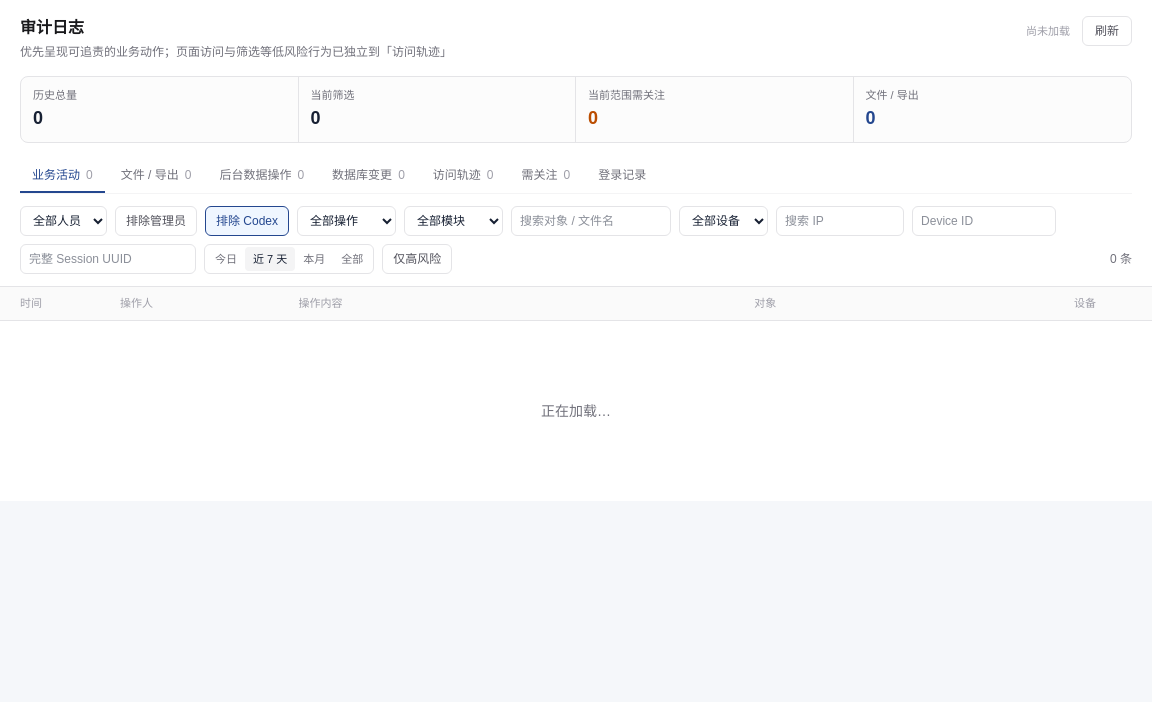
Test: legacy Codex imports show executor, business action and raw evidence
The width and height of the screenshot is (1152, 702).
Click the button "排除 Codex" at (247, 220), box [205, 206, 289, 236]
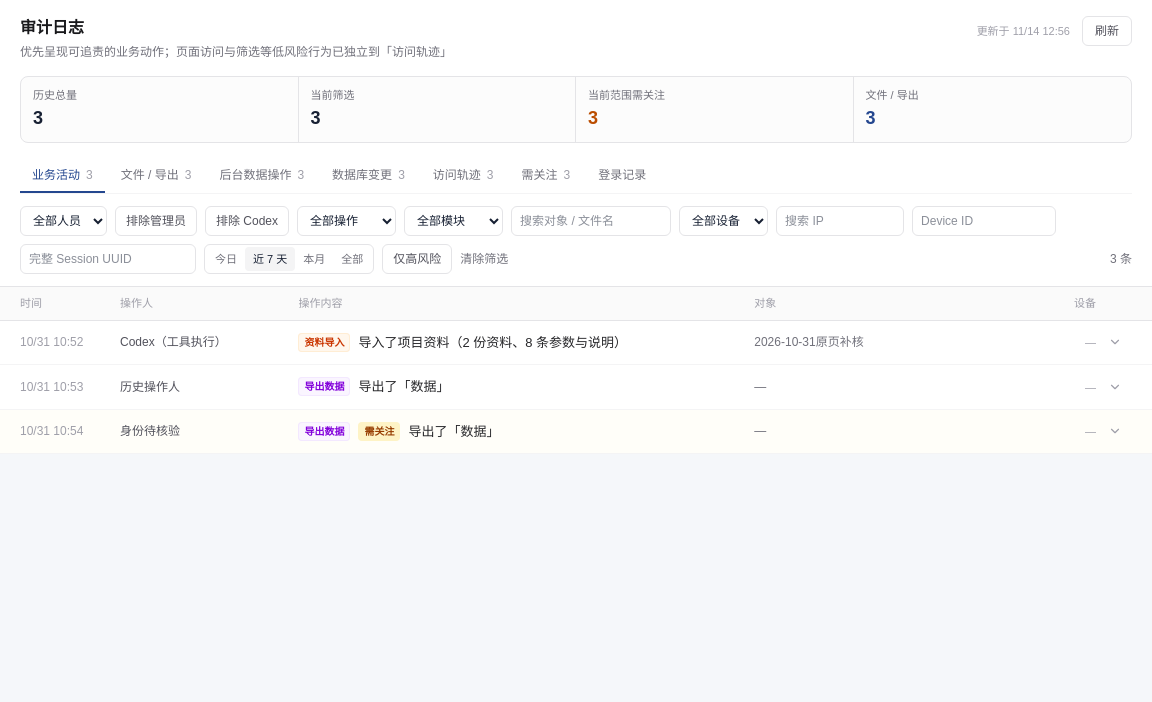
expect the text "导入了项目资料（2 份资料、8 条参数与说明）" is shown: met, box [358, 332, 627, 352]
Click the button "Codex（工具执行）" at (576, 342), box [0, 320, 1151, 364]
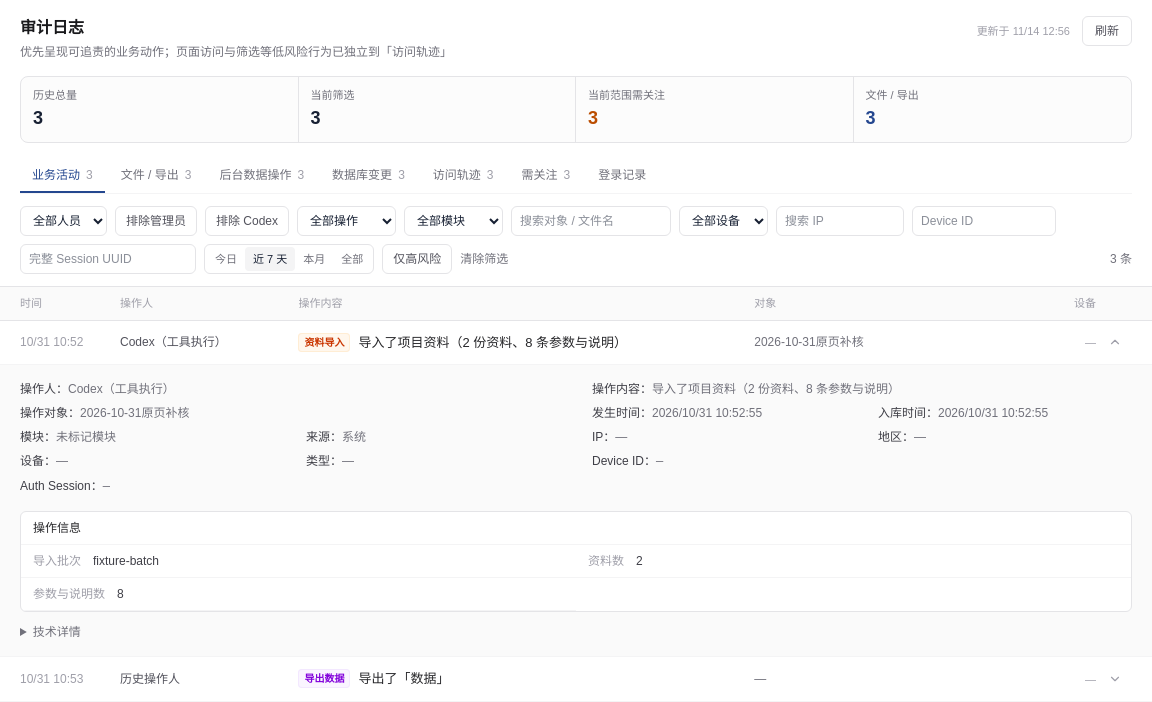
expect the text "导入批次" is shown: met, box [33, 553, 81, 569]
